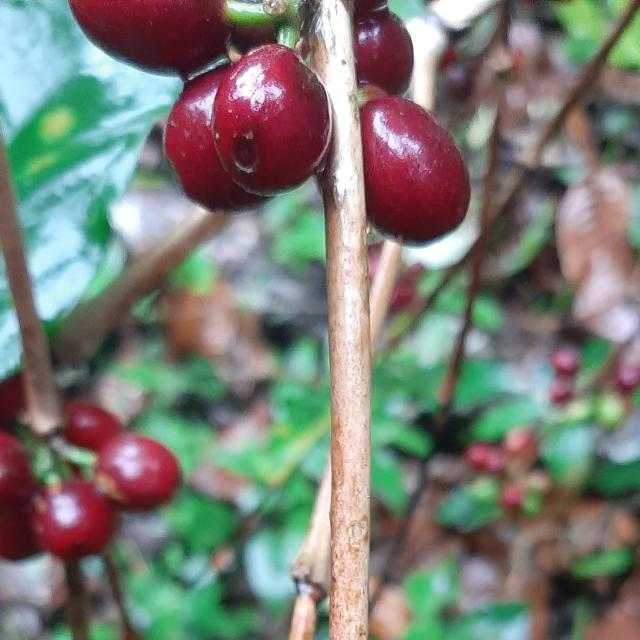Ripe: (213, 43, 331, 195), (361, 95, 471, 243), (163, 64, 266, 212), (68, 0, 230, 76), (32, 480, 114, 563), (94, 434, 180, 511), (354, 8, 414, 94), (63, 401, 122, 452), (0, 501, 39, 562), (0, 430, 33, 502)
